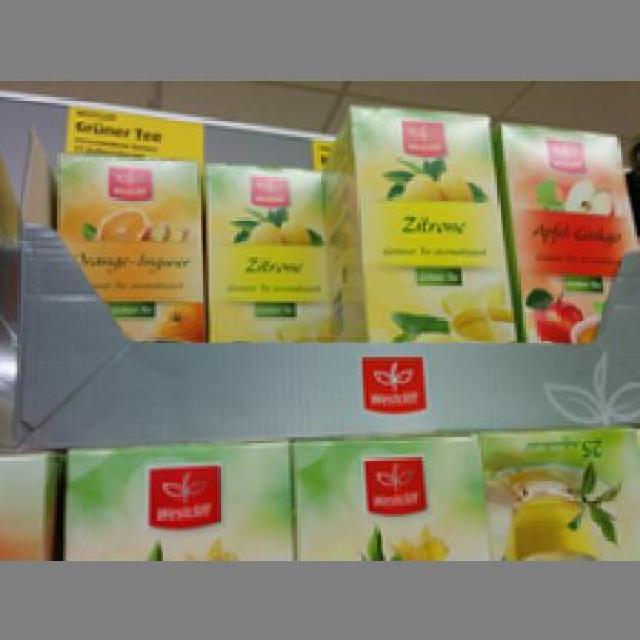Tea: (320, 100, 517, 337), (494, 117, 632, 340), (50, 149, 206, 340), (292, 434, 488, 557), (202, 157, 328, 334)
